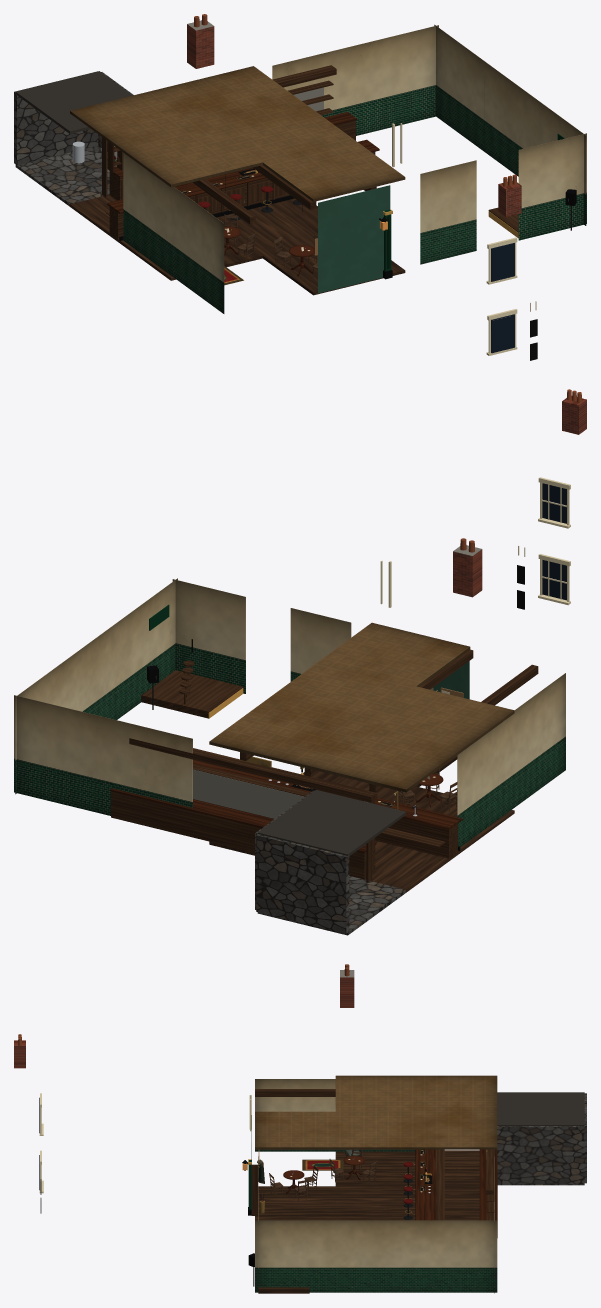
File: world_01.glb
The picture shows the model from 3 angles, top to bottom: view 1: azimuth 30°, elevation 25°; view 2: azimuth 150°, elevation 25°; view 3: azimuth 270°, elevation 25°; orthographic projection. The views are drawn at different scales.
Visible parts, largest first — view 1: c073, c077, c078, c072, c057, c070, c076, c058, c056, c054, c053, c059 (+6 smaller); view 2: c070, c077, c078, c057, c076, c073, c058, c055, c072, c054, c053, c061 (+6 smaller); view 3: c077, c078, c073, c059, c060, c072, c070, c061, c076, c069, c054, c074.
Part boxes in pixels (x1,y1,x2,y2): c073: (263,123,405,295); c077: (14,71,133,206); c078: (120,14,316,285); c072: (213,103,376,255); c057: (355,25,438,135); c070: (109,65,356,217); c076: (70,88,211,243); c058: (518,133,586,240); c056: (420,160,476,264); c054: (173,187,224,313); c053: (123,153,173,276); c059: (434,24,484,151); c070: (110,702,377,879); c077: (255,790,406,935); c078: (304,538,538,852); c057: (14,695,103,813); c076: (308,726,460,892); c073: (318,560,470,786); c058: (172,579,245,693); c055: (103,717,192,815); c072: (240,662,415,801); c054: (511,673,565,809); c053: (457,716,511,846); c061: (123,578,177,714); c077: (497,1092,586,1185); c078: (255,964,416,1190); c073: (242,1095,335,1220); c059: (416,1220,497,1292); c060: (335,1220,416,1292); c072: (335,1111,416,1220); c070: (416,1111,497,1237); c061: (255,1220,335,1292); c076: (416,1075,497,1186); c069: (403,1149,444,1220); c054: (255,1079,335,1151); c074: (14,1034,43,1213).
Size of the model in its own units: 14.06 by 9.13 by 23.65.
Materials: 26 (26 with a texture image).
